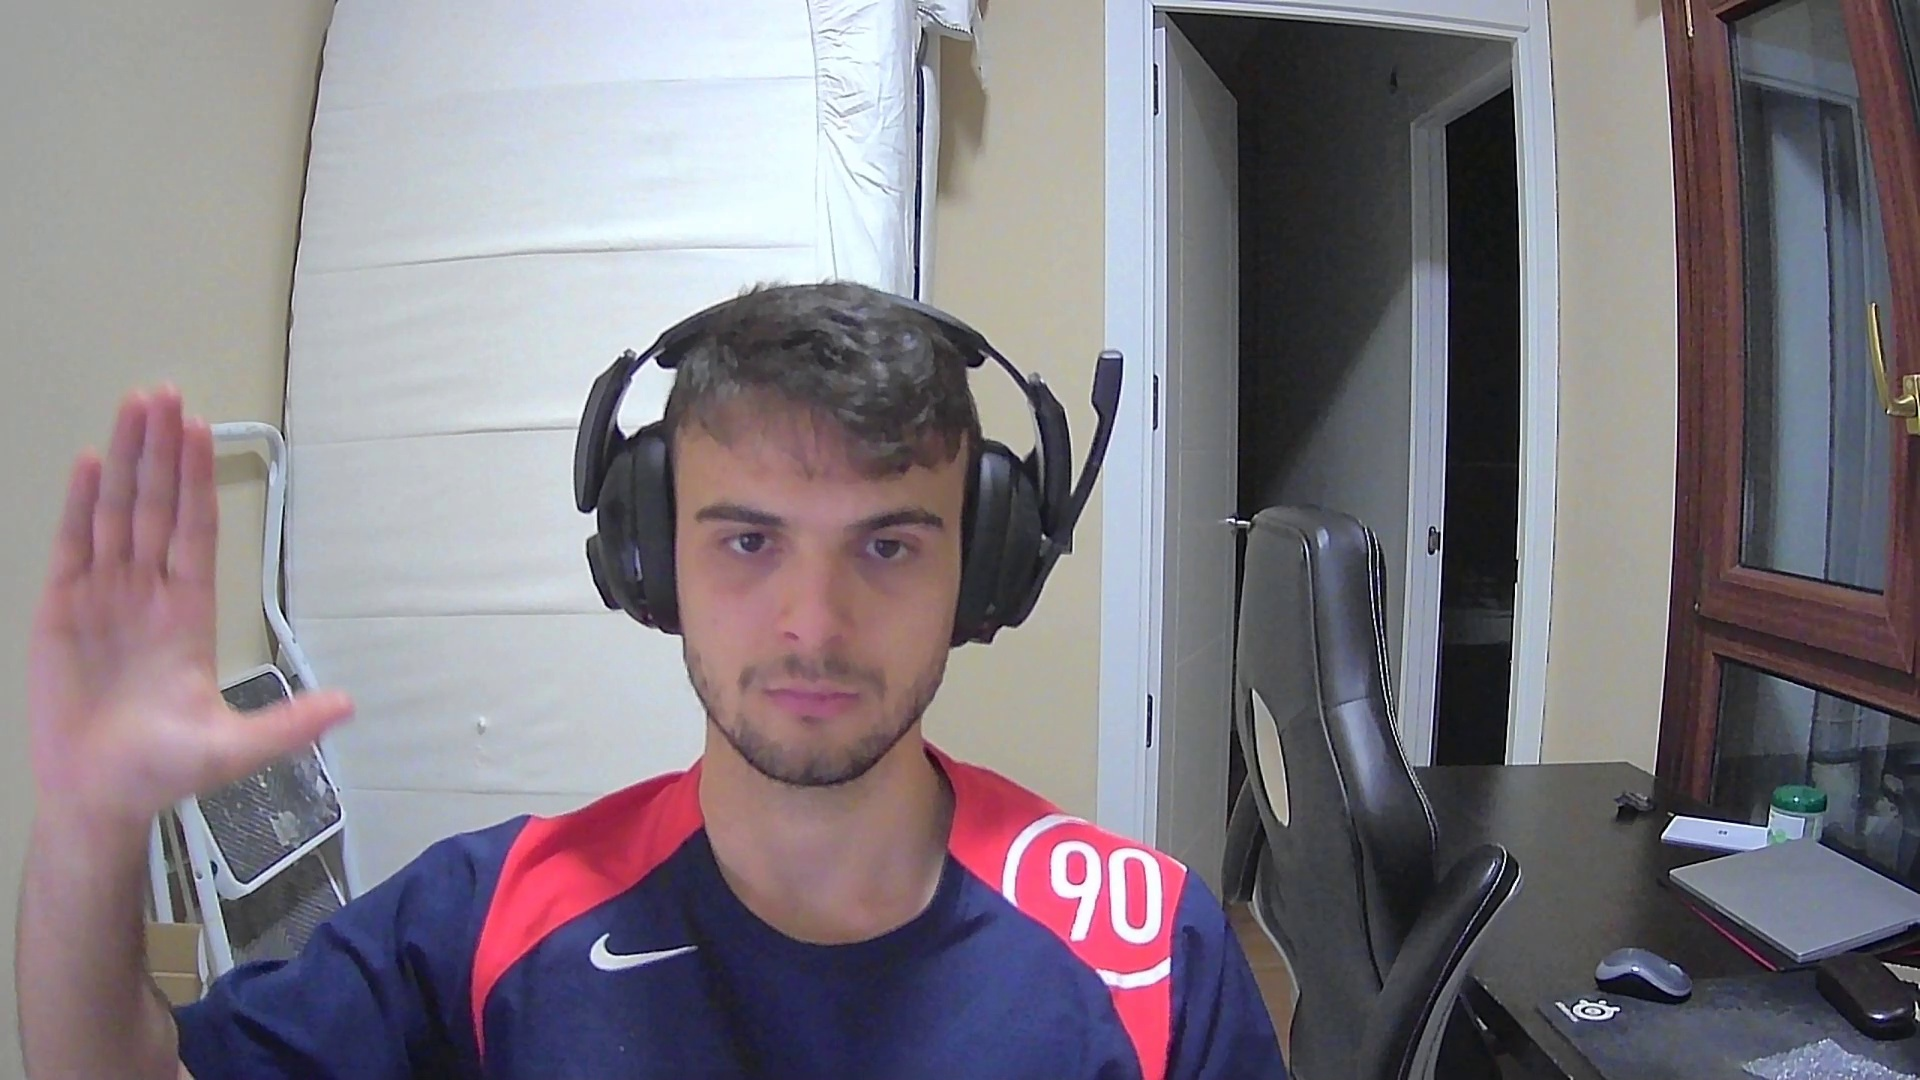Palm: (20, 378, 359, 800)
